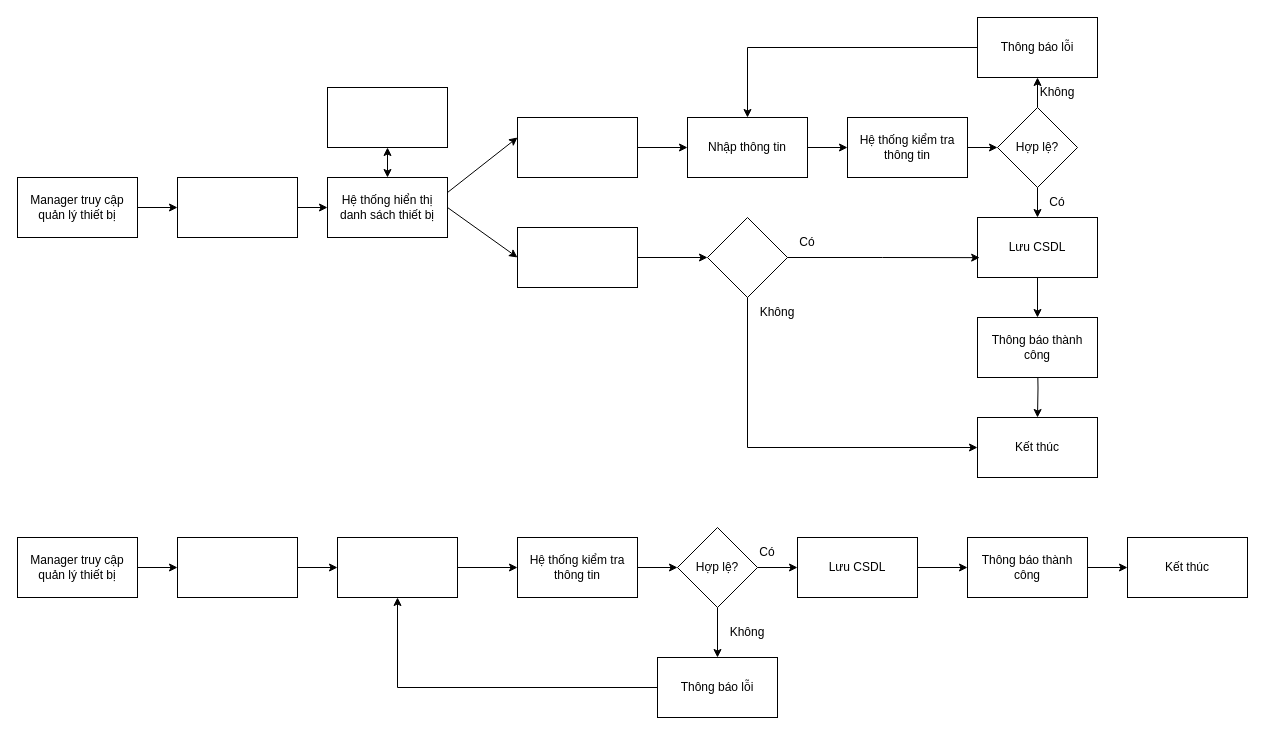
Some shapes in this 1265 by 735 pixel diagram are drawn without their labels. Here are the shapes that lost their labels. From the top down, the centre of each, then its label:
At point (387, 117): "Tìm kiếm theo tên/ danh mục/ chi nhánh".
At point (577, 147): "Sửa thiết bị".
At point (237, 207): "Danh sách thiết bị".
At point (577, 257): "Ẩn thiết bị".
At point (747, 257): "Xác nhận ẩn?".
At point (237, 567): "Tạo thiết bị".
At point (397, 567): "Nhập thông tin, chọn chi nhánh".
